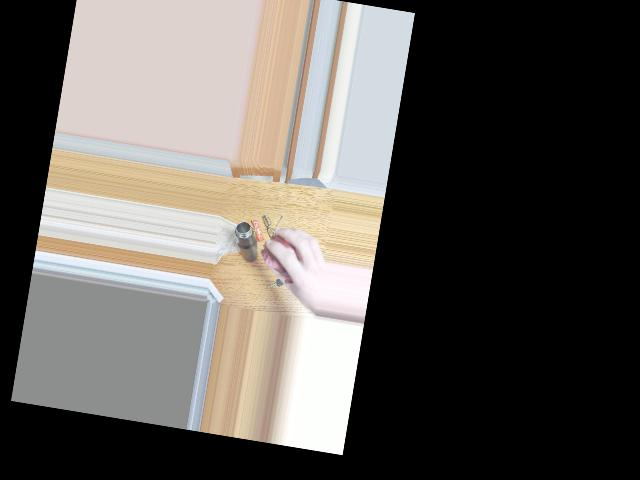onion: (263, 230, 302, 278)
